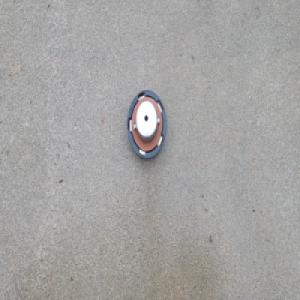FuelCap: (125, 88, 167, 162)
